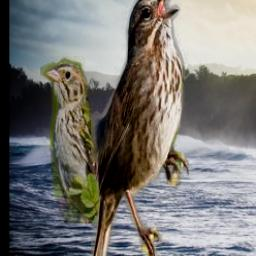Sparrow: (92, 0, 190, 256), (41, 55, 104, 225)
